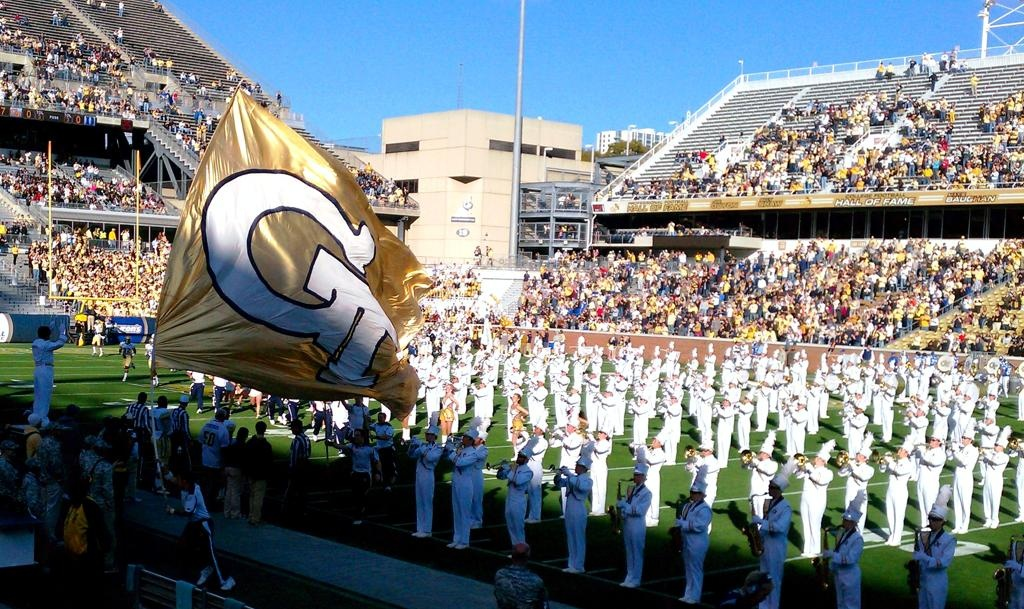human_face: (753, 584, 769, 602), (926, 515, 938, 529), (766, 483, 776, 497), (460, 434, 468, 446), (176, 476, 184, 488), (689, 490, 697, 501), (812, 455, 820, 466), (896, 445, 904, 456), (842, 518, 850, 528), (632, 473, 640, 483), (928, 437, 936, 447), (574, 463, 582, 473), (352, 430, 360, 440), (96, 446, 104, 456), (650, 438, 658, 447), (516, 453, 524, 462), (6, 445, 14, 454), (161, 418, 169, 427), (854, 452, 862, 460), (960, 437, 968, 445), (596, 432, 604, 440), (377, 414, 383, 423), (700, 448, 706, 456), (758, 451, 764, 459), (993, 442, 999, 450), (424, 432, 430, 440), (355, 398, 361, 406), (512, 395, 518, 403), (532, 427, 538, 435), (290, 425, 296, 433), (53, 427, 59, 435), (566, 424, 570, 434), (638, 398, 644, 404), (988, 395, 994, 401), (984, 417, 990, 423), (846, 361, 852, 367), (916, 408, 920, 416), (796, 402, 800, 410), (722, 398, 726, 406), (854, 405, 858, 412), (444, 385, 448, 392), (743, 396, 747, 402), (671, 396, 675, 402), (641, 372, 645, 378), (704, 383, 708, 389), (854, 393, 858, 399), (962, 395, 968, 399), (604, 390, 608, 396), (536, 381, 540, 387), (570, 388, 574, 394), (560, 370, 564, 376), (512, 367, 516, 373), (452, 376, 456, 382), (124, 336, 128, 342), (590, 371, 594, 377), (670, 374, 674, 379), (619, 374, 623, 379), (478, 382, 482, 387), (728, 382, 732, 386), (428, 375, 432, 379), (702, 375, 704, 381)
